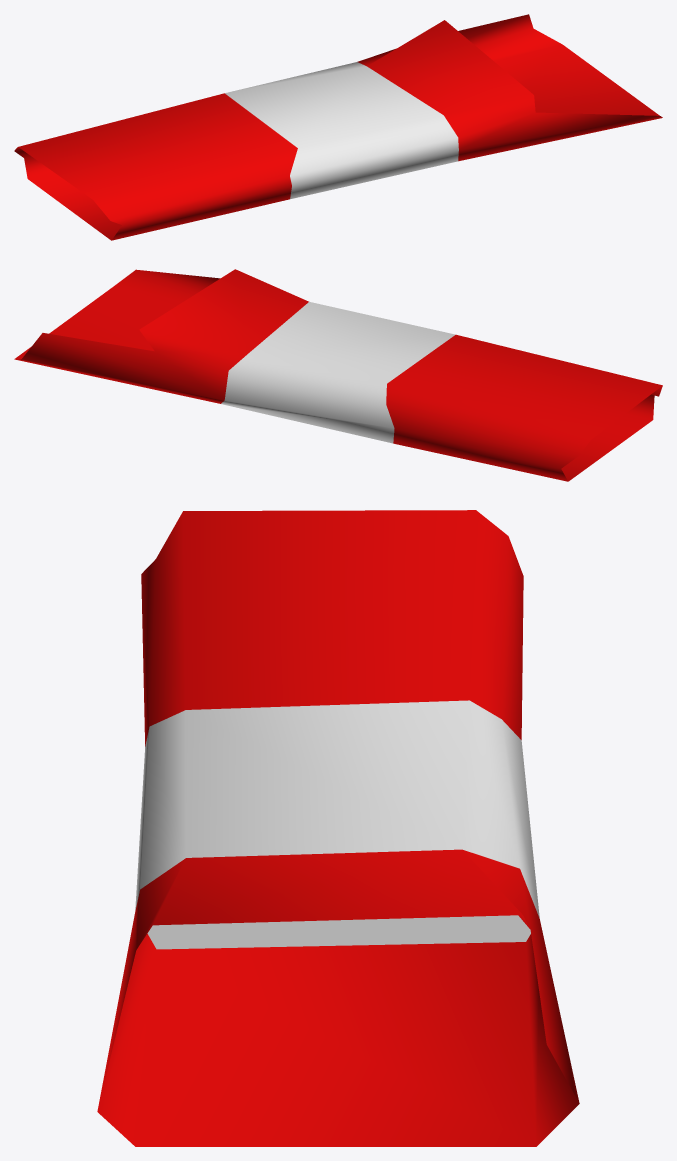
The model's file is woolskinBed_2.glb.
3 views of the same model, one above another, from view 1: azimuth 30°, elevation 25°; view 2: azimuth 150°, elevation 25°; view 3: azimuth 270°, elevation 25° (orthographic). The views are drawn at different scales.
Visible parts, largest first — view 1: final2.001; view 2: final2.001; view 3: final2.001.
Part boxes in pixels (left/top/right/bottom): final2.001: left=14, top=14, right=662, bottom=240; final2.001: left=14, top=269, right=662, bottom=481; final2.001: left=97, top=510, right=579, bottom=1146.
Bounding box in the file's own units: 1.76 × 0.1698 × 0.655.
